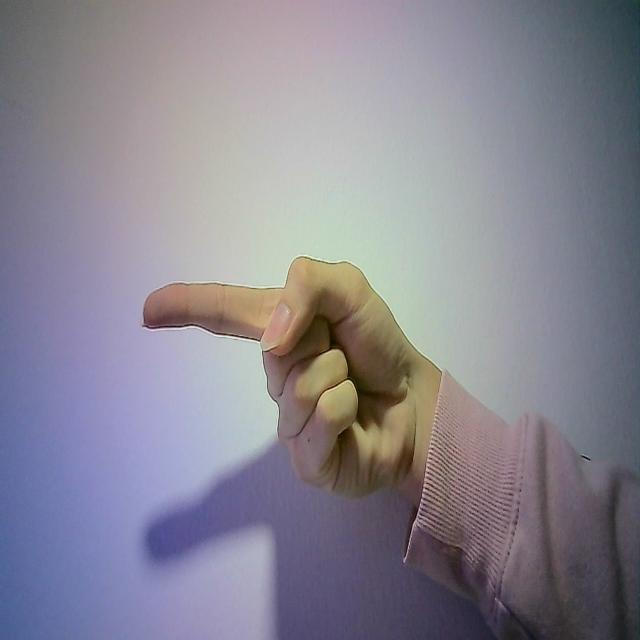G: (137, 227, 415, 519)
